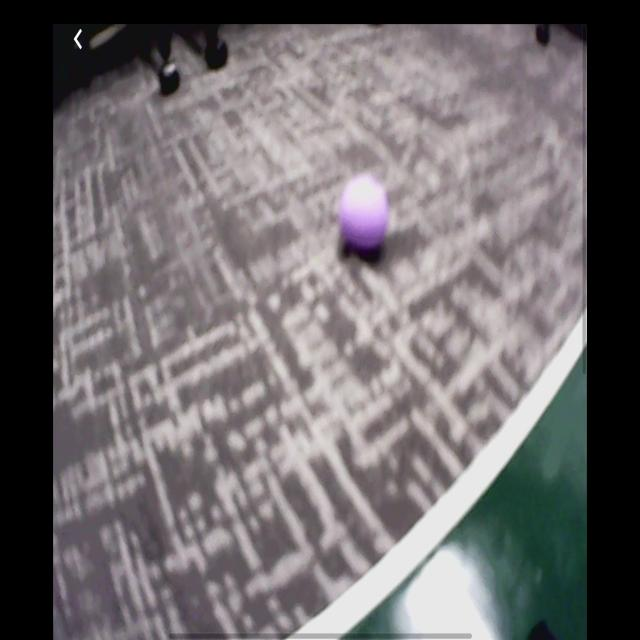ball: (339, 177, 389, 251)
